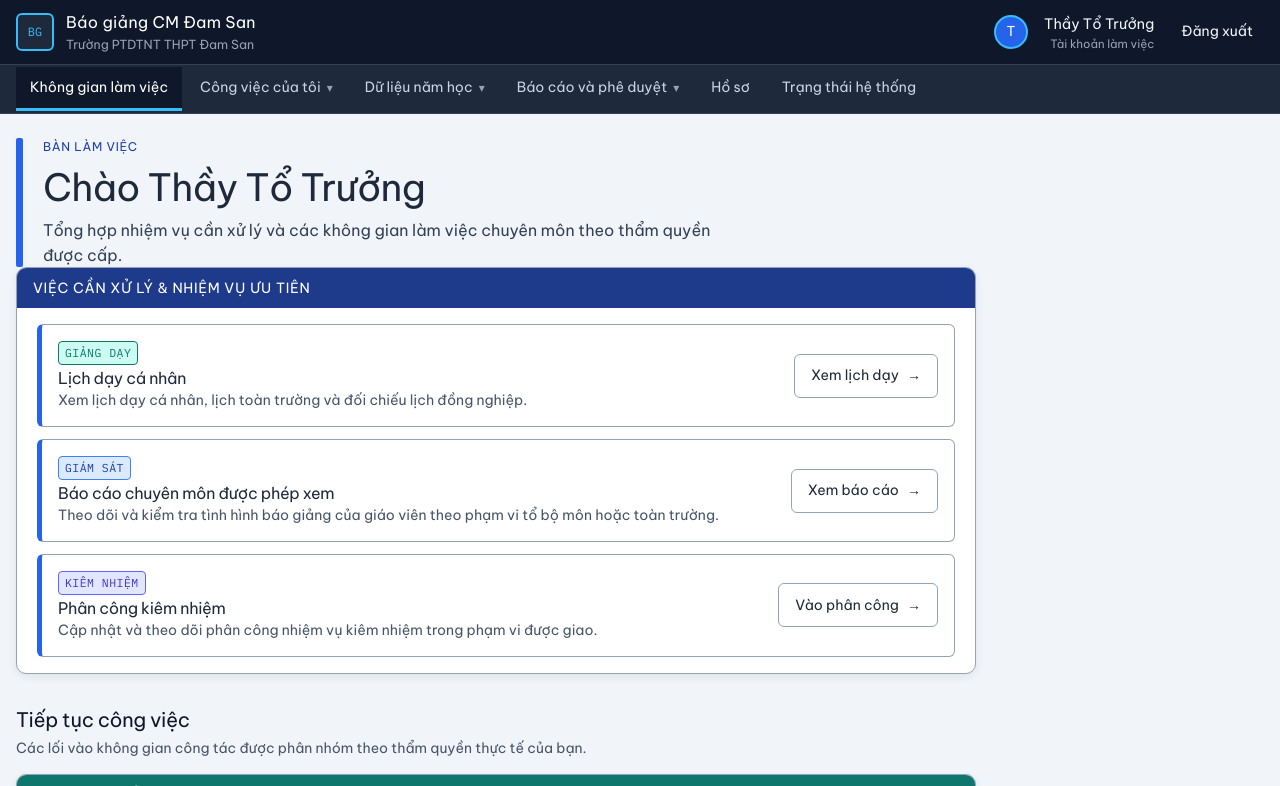
Scenario: P5-052: Task-Oriented Workspace & Information Architecture › Persona Fixtures (Real Grants — No Role Derivation) › 2. Subject Leader: can see duty assignment and subject PPCT, cannot approve or manage users
Expected: the heading "Chào Thầy Tổ Trưởng" is shown, x1=43 y1=163 x2=425 y2=211
Click the button "Dữ liệu năm học ▾" at coordinates (425, 89), box x1=351 y1=67 x2=499 y2=111
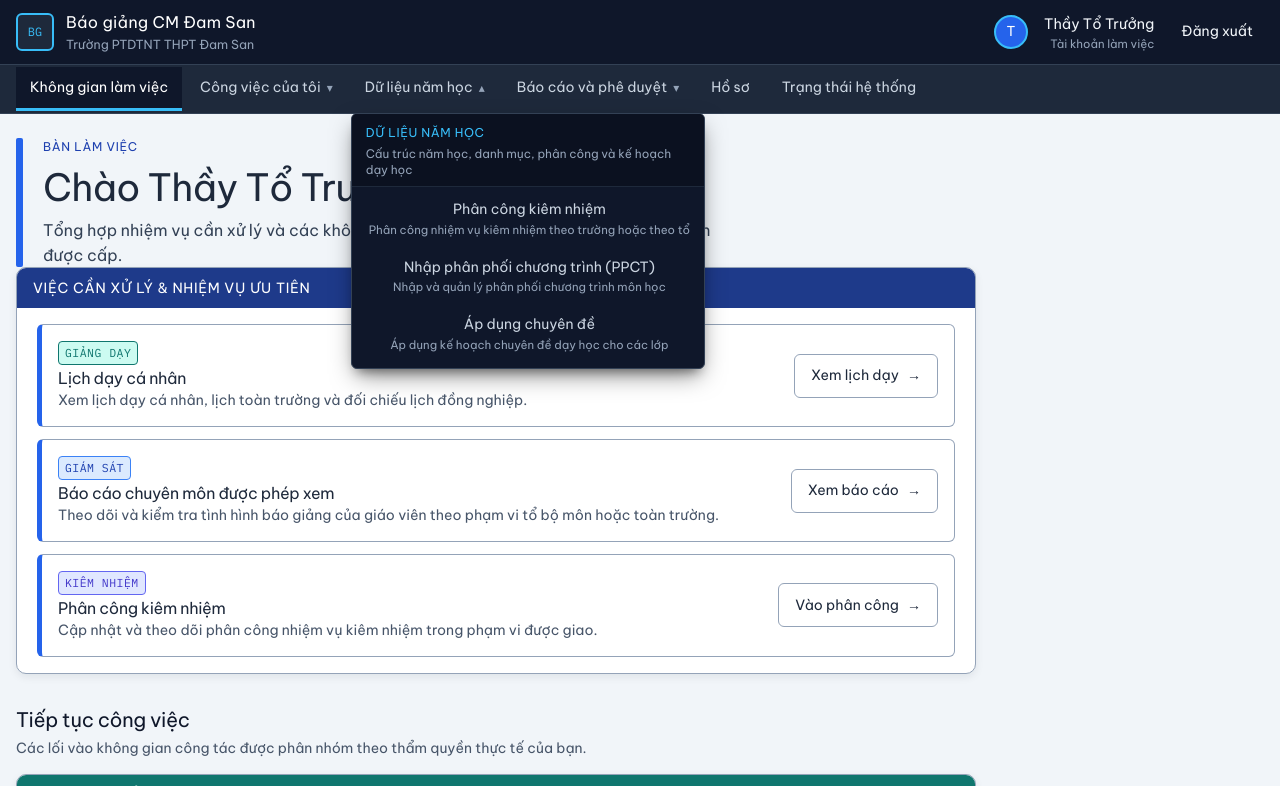
Expected: the link "Phân công kiêm nhiệm" is shown, x1=352 y1=191 x2=704 y2=249
Expected: the link "Nhập phân phối chương trình (PPCT)" is shown, x1=393 y1=258 x2=666 y2=294
Expected: the link "Áp dụng chuyên đề" is shown, x1=390 y1=315 x2=669 y2=352
Click the button "Báo cáo và phê duyệt ▾" at coordinates (598, 89), box x1=503 y1=67 x2=693 y2=111
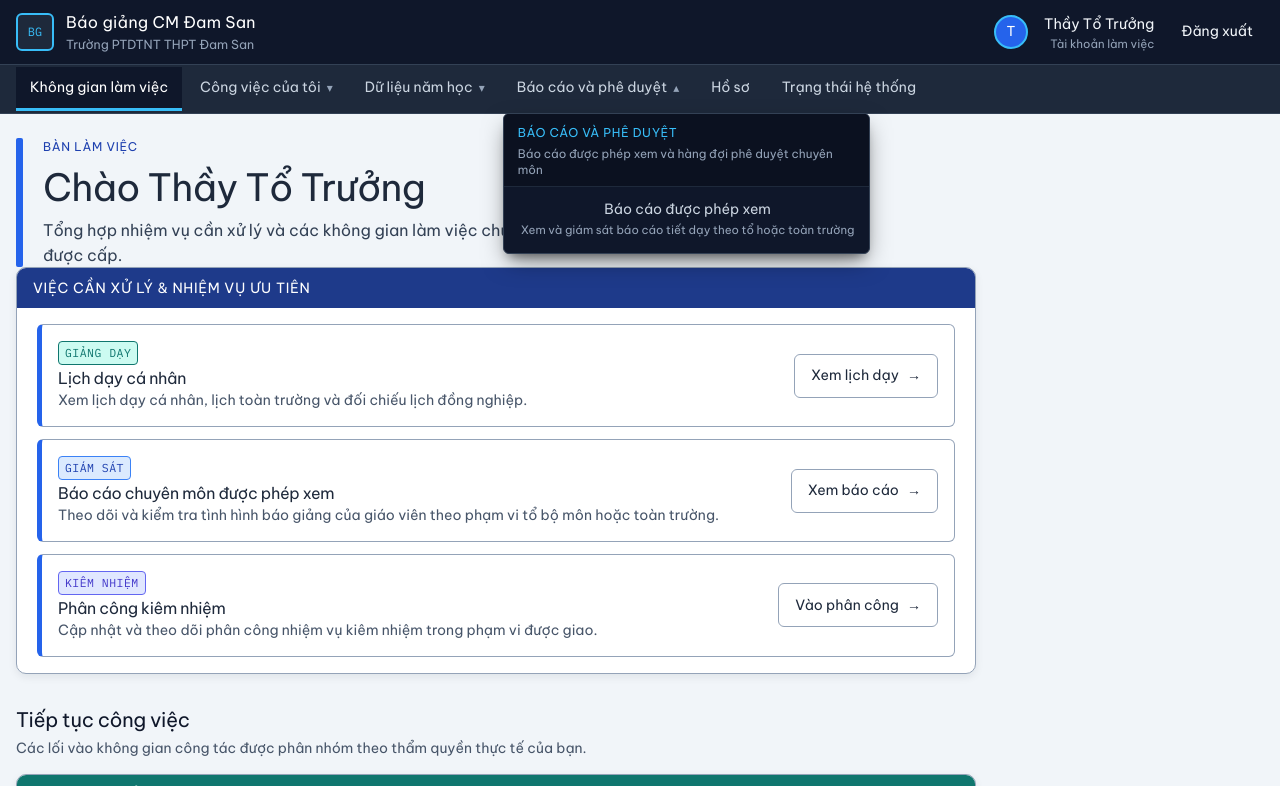
Expected: the link "Báo cáo được phép xem" is shown, x1=504 y1=191 x2=868 y2=249
